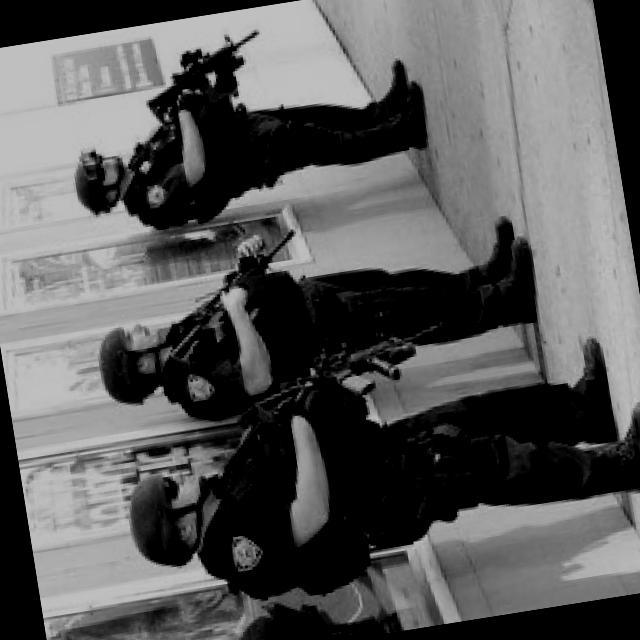long weapon: (234, 306, 461, 453), (163, 217, 317, 376), (130, 18, 282, 138)
